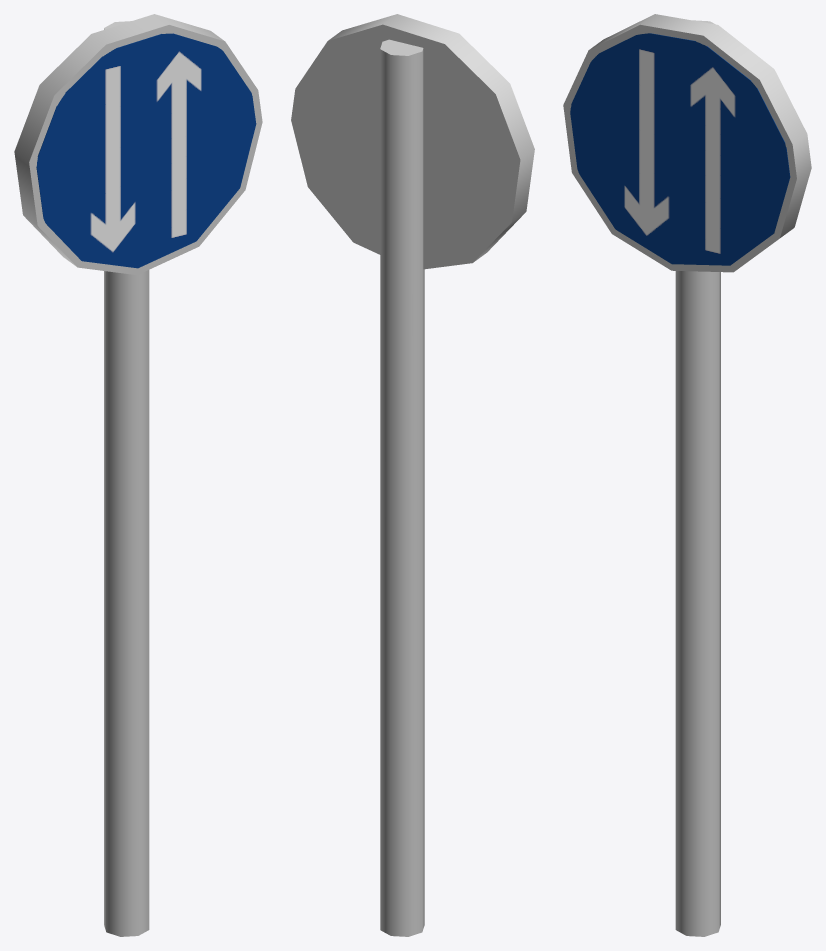
The model's file is TWOWAY.fbx.
3 views of the same model, side by side, from view 1: azimuth 30°, elevation 25°; view 2: azimuth 150°, elevation 25°; view 3: azimuth 330°, elevation 25° (orthographic).
Visible parts, largest first — view 1: pasted__pasted__pasted__pasted__pasted__pasted__pasted__past; view 2: pasted__pasted__pasted__pasted__pasted__pasted__pasted__past; view 3: pasted__pasted__pasted__pasted__pasted__pasted__pasted__past.
Part boxes in pixels (x1=…): pasted__pasted__pasted__pasted__pasted__pasted__pasted__past: x1=14, y1=14, x2=262, y2=936; pasted__pasted__pasted__pasted__pasted__pasted__pasted__past: x1=291, y1=14, x2=534, y2=936; pasted__pasted__pasted__pasted__pasted__pasted__pasted__past: x1=563, y1=14, x2=811, y2=936.
Bounding box in the file's own units: 1.02 × 3.81 × 0.2327.
Materials: 2 (1 with a texture image).
